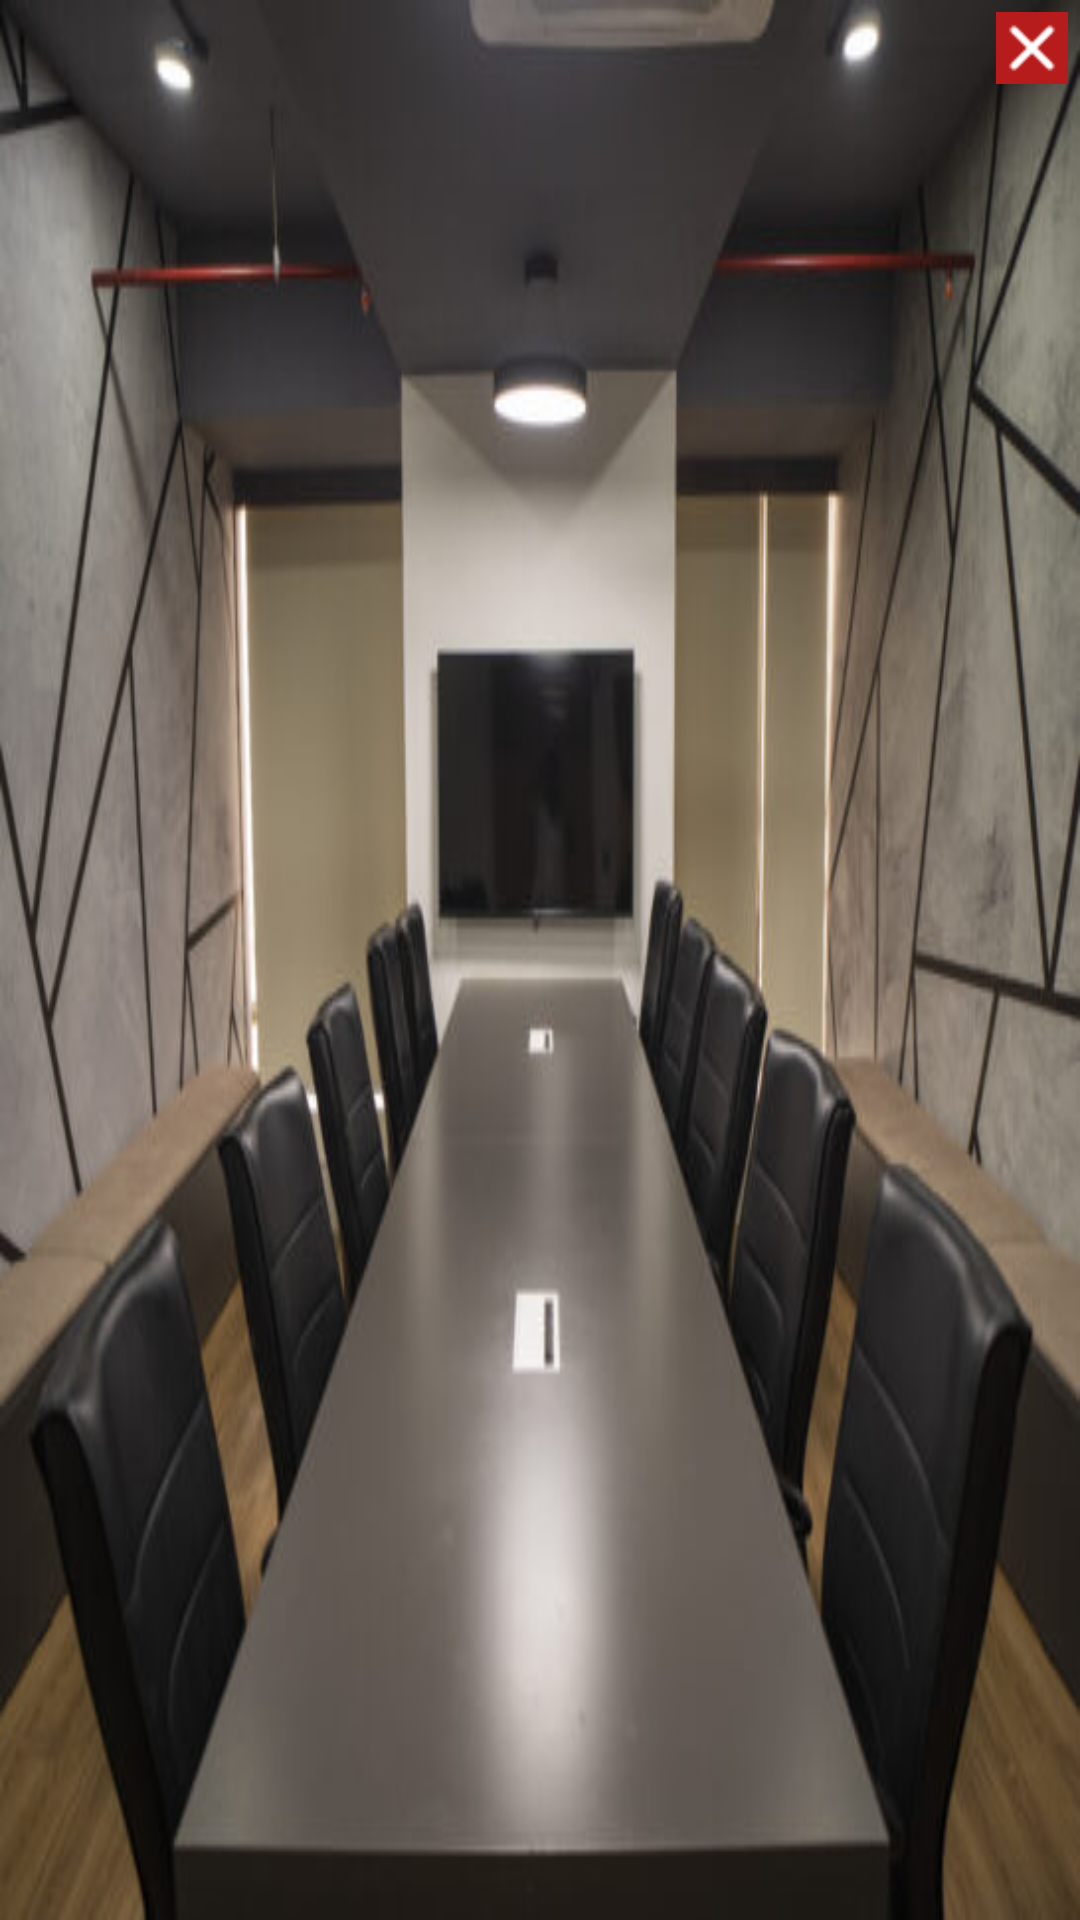

Locate icon controls on the screen. Image size 1080 × 1920, boxes as bbox(x1, y1, x2, y2).
Remove Image: bbox(996, 12, 1068, 84)
